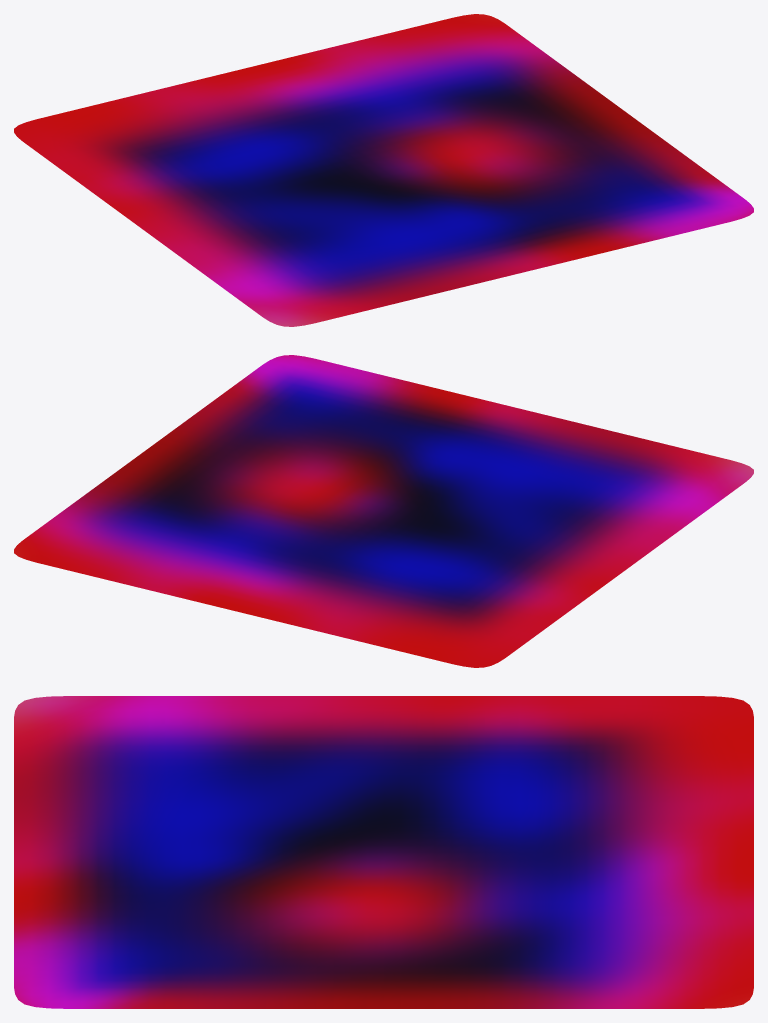
The model's file is plan.fbx.
The picture shows the model from 3 angles, top to bottom: view 1: azimuth 30°, elevation 25°; view 2: azimuth 150°, elevation 25°; view 3: azimuth 270°, elevation 25°; orthographic projection. The views are drawn at different scales.
Parts seen in each view (by area): view 1: Plane; view 2: Plane; view 3: Plane.
Part boxes in pixels (x1,y1,x2,y2): Plane: [14, 14, 753, 326]; Plane: [14, 355, 753, 667]; Plane: [14, 696, 753, 1008].
Bounding box in the file's own units: 100 × 0 × 100.
